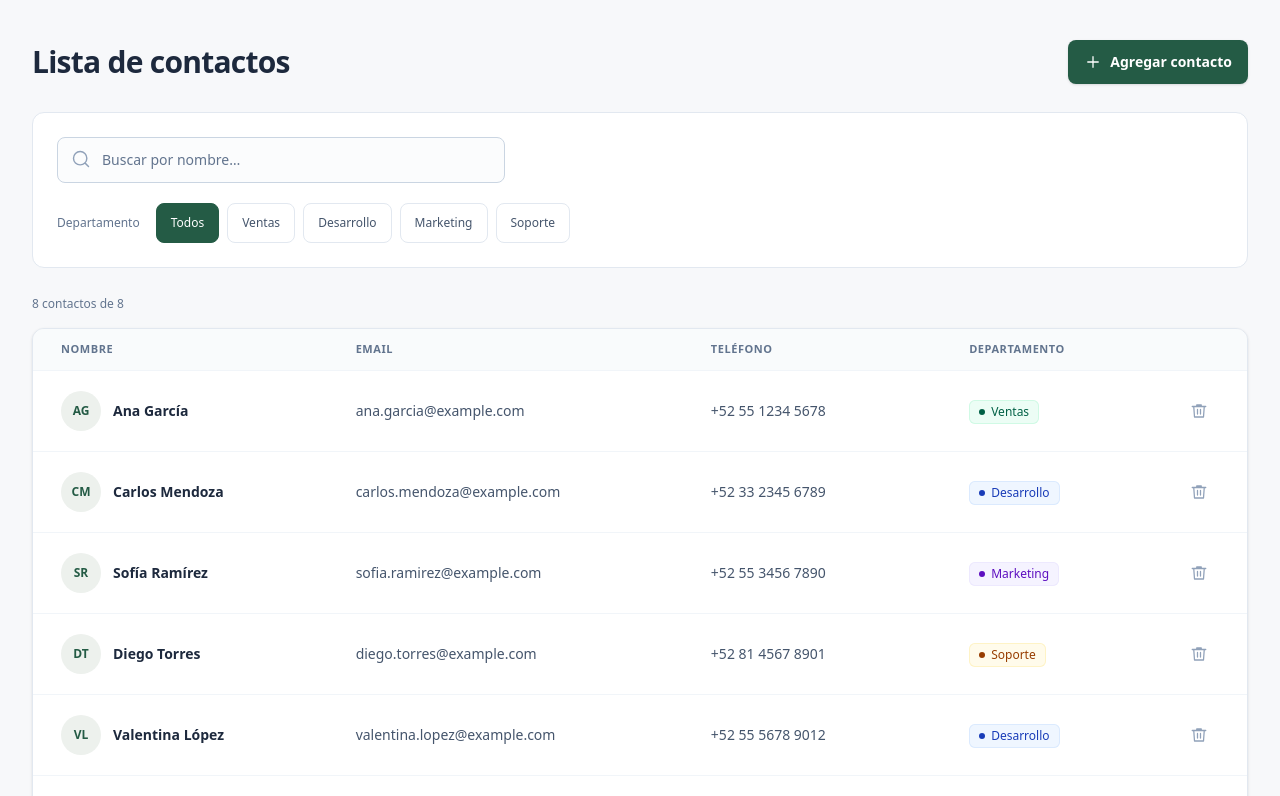
Test case: cierra mediante Cerrar modal sin guardar y devuelve el foco
Expected: the text "Ana García" is shown, left=113, top=400, right=188, bottom=420
Click the button "Agregar contacto" at (1158, 62), box left=1068, top=40, right=1248, bottom=84
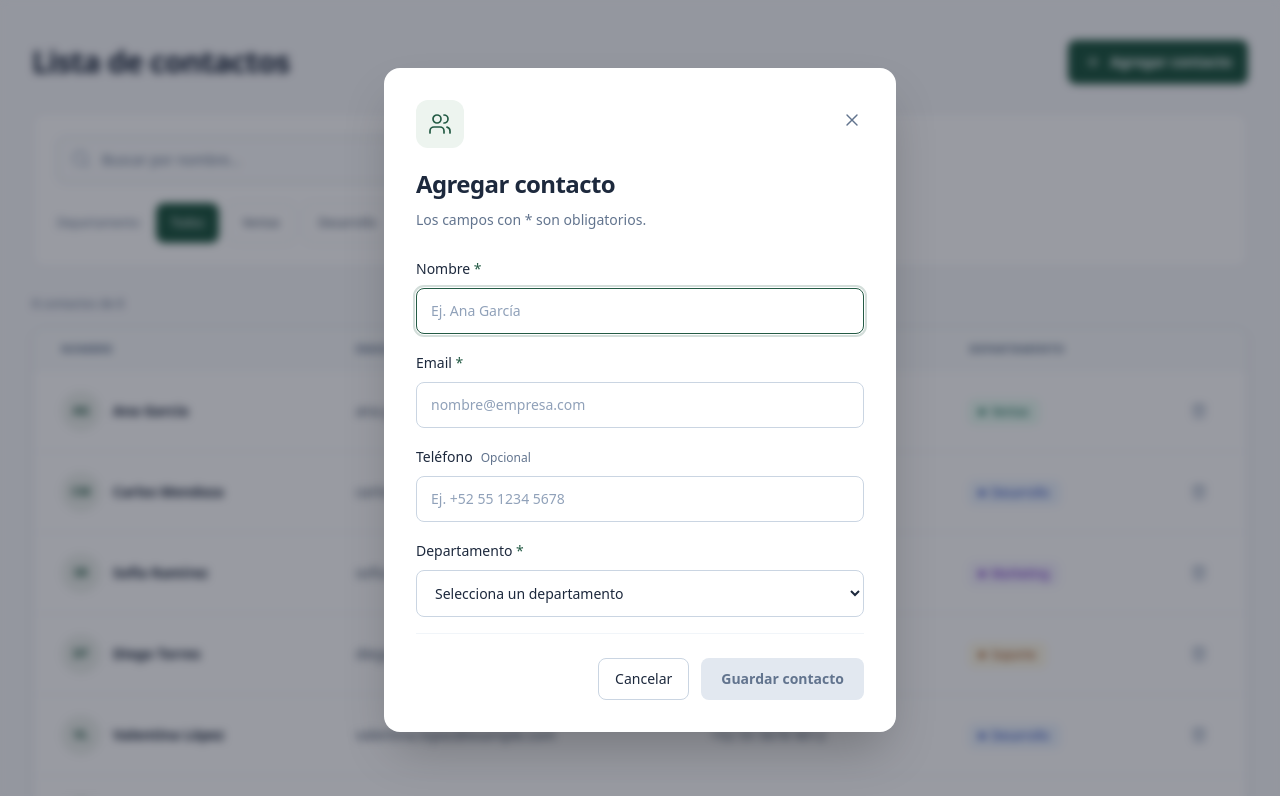
Type "Borrador" into the field labelled "Nombre *" at (640, 311), box left=416, top=288, right=864, bottom=334
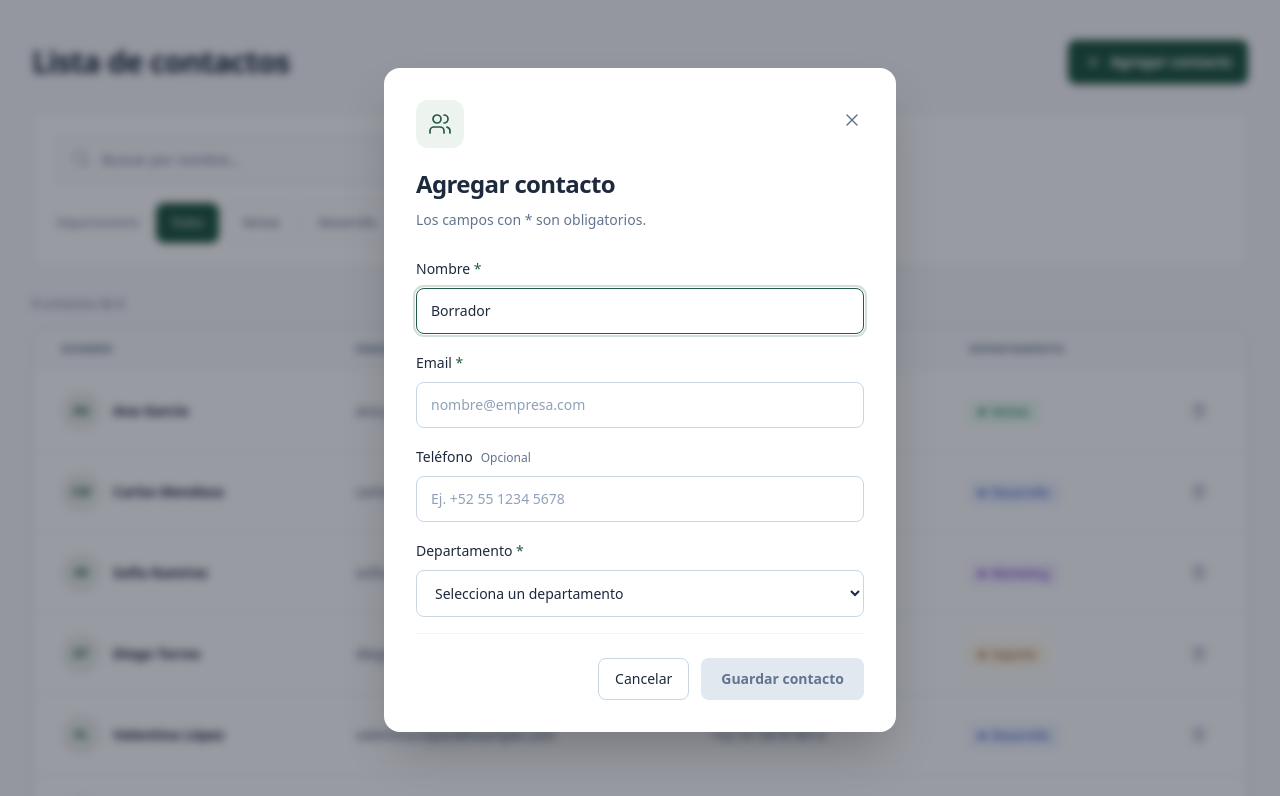
Click the button named "Cerrar modal" at (852, 120), box left=832, top=100, right=872, bottom=140
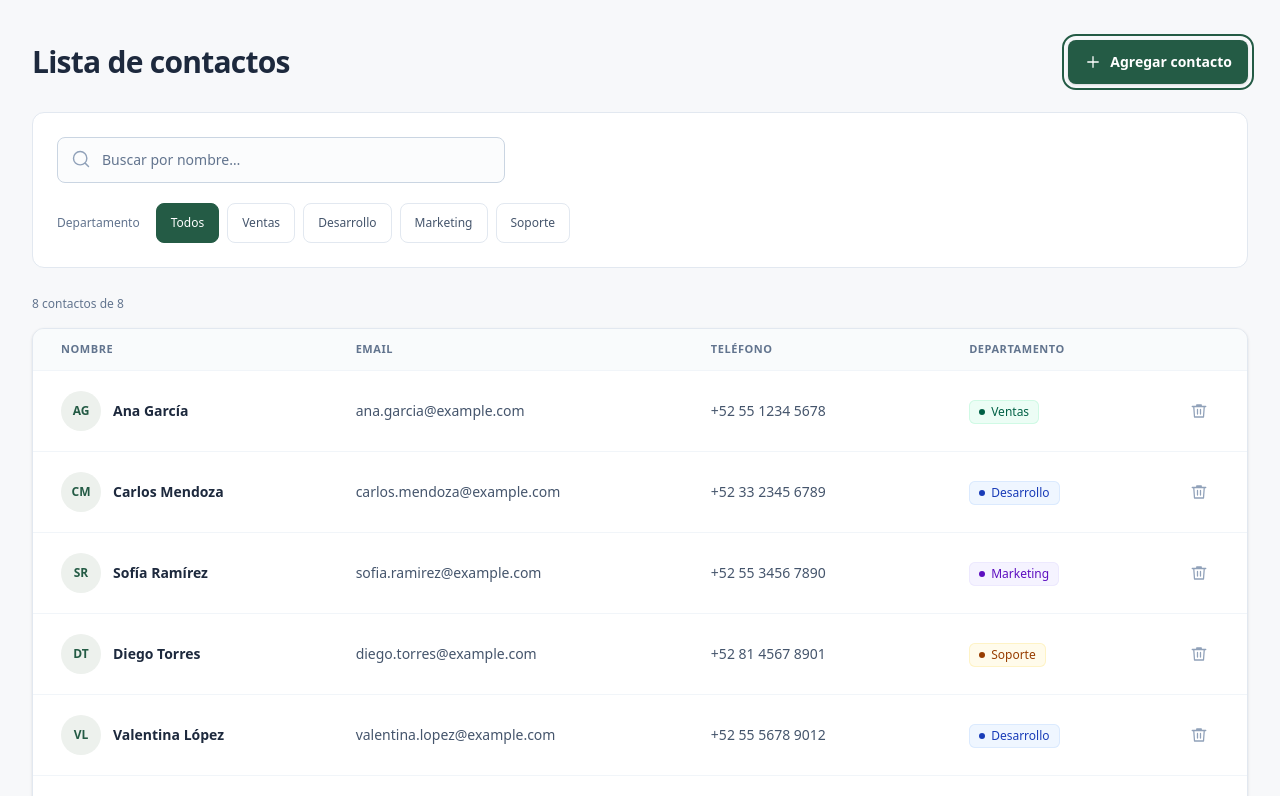
Expected: the dialog is gone
